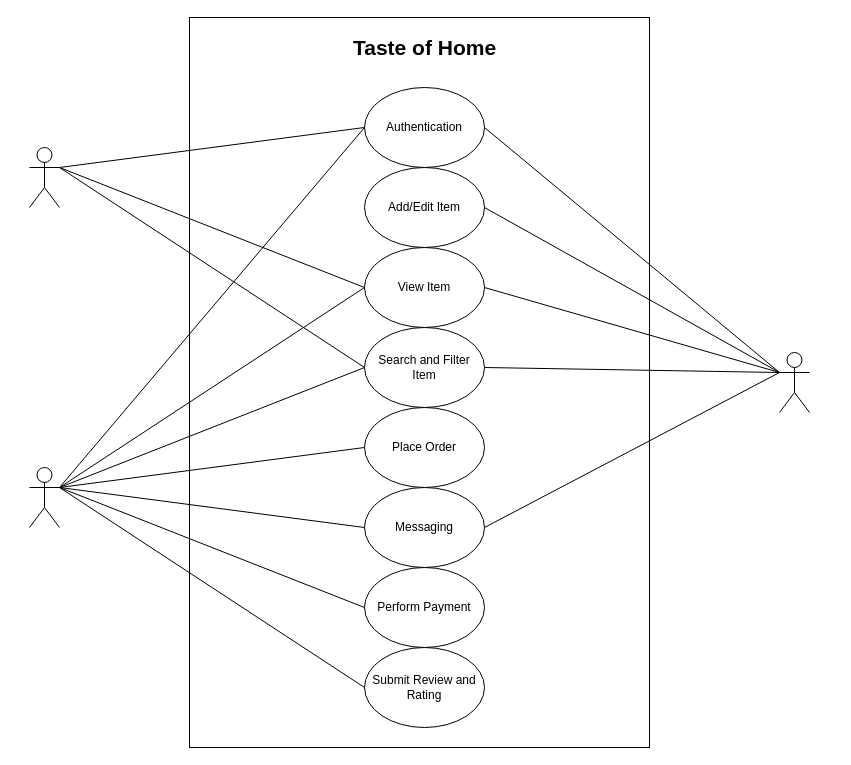
Some shapes in this 851 by 765 pixel diagram are drawn without their labels. The shapes that lost their labels are listed below. From the top down, each one's box as (x1, y1, x2, y2) in pixels, then its label:
(28, 146, 60, 208): Guest
(778, 352, 810, 412): Food Producer
(28, 466, 60, 528): Consumer
